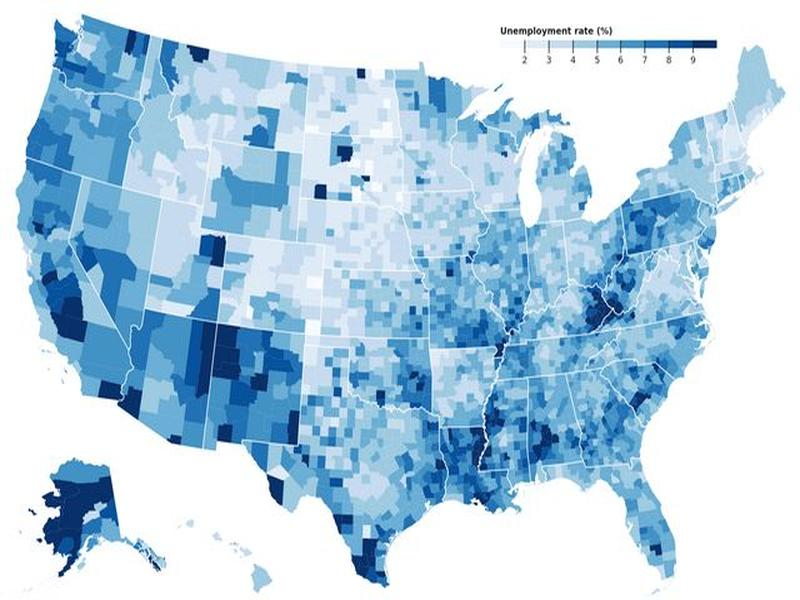legend: (499, 23, 720, 65)
